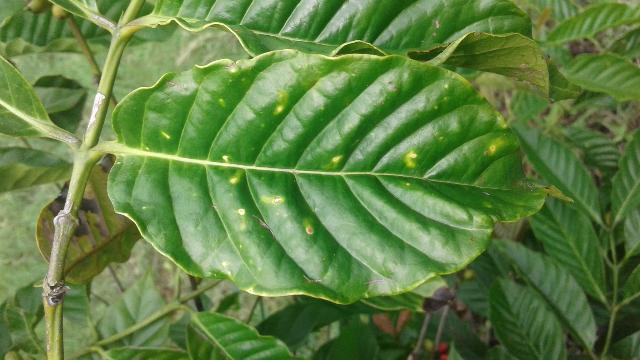rust_level_1: (104, 46, 582, 305)
